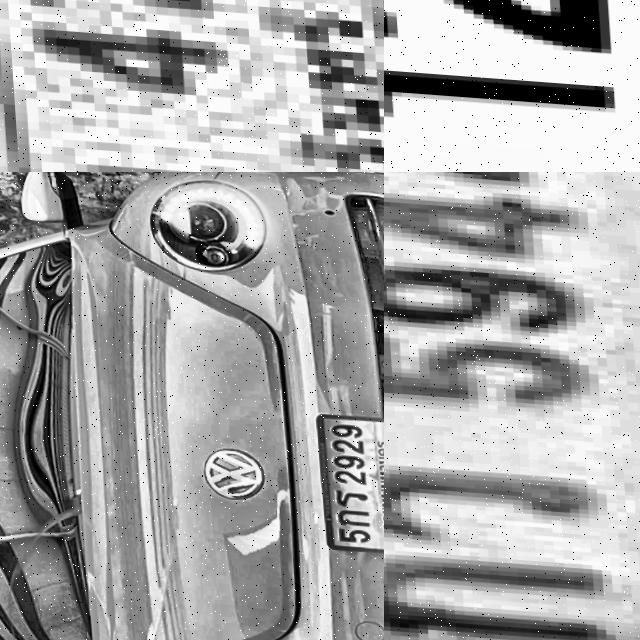license-plate: (384, 172, 640, 640), (0, 0, 384, 172), (384, 0, 640, 172), (312, 405, 384, 547)
